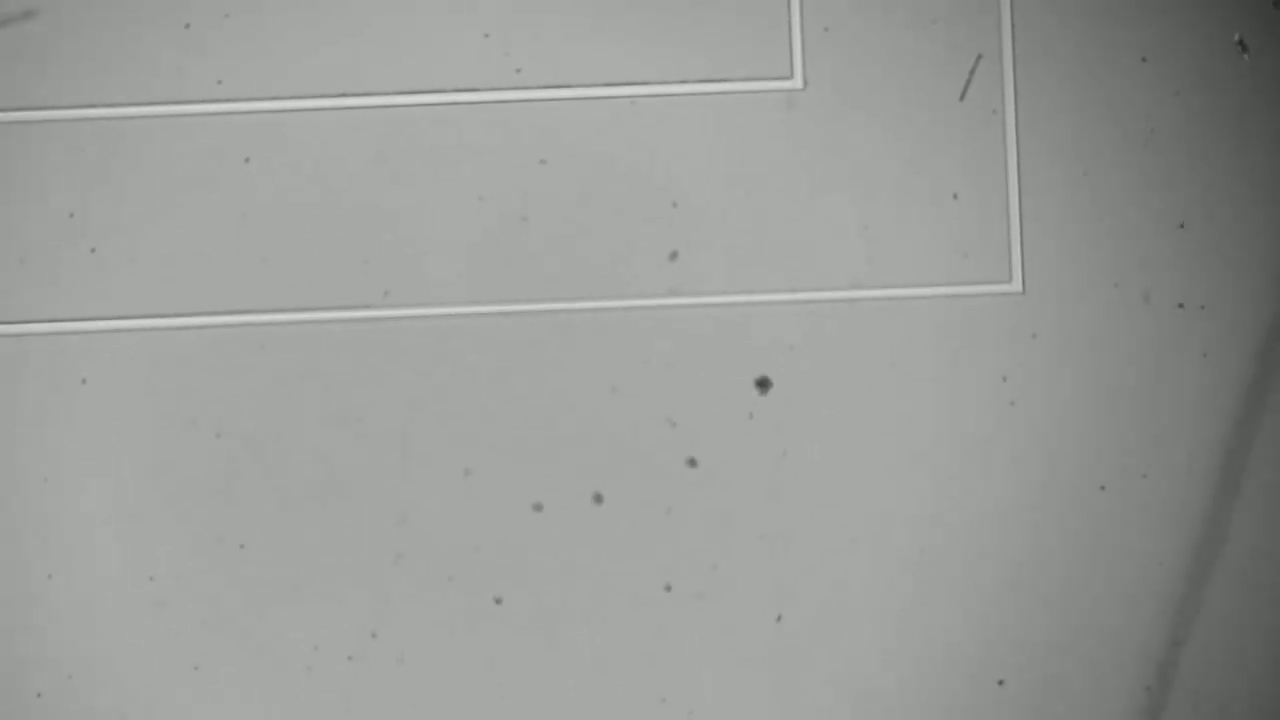scratch: (965, 45, 990, 110)
